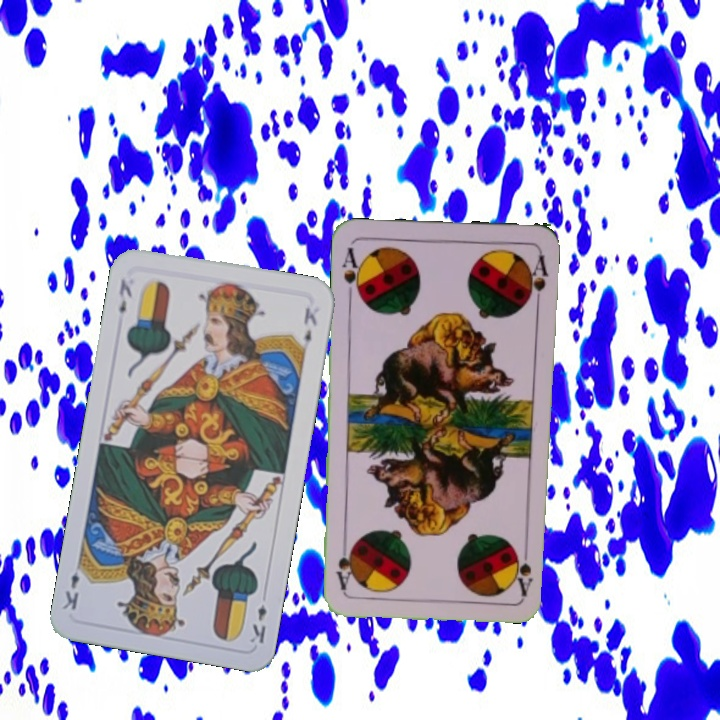EK: (246, 600, 270, 646), (114, 275, 135, 316)
SA: (338, 243, 365, 302), (515, 538, 535, 597)
